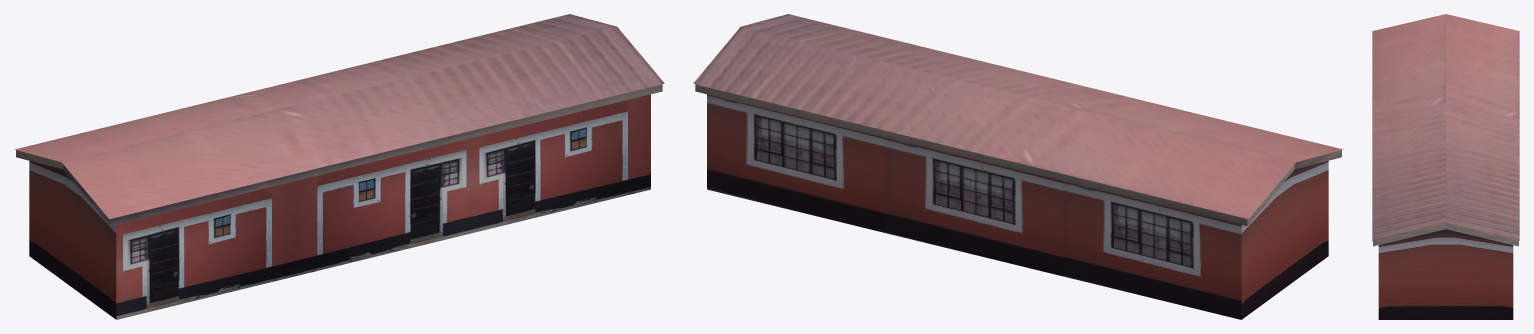
Rendered from PazuriHouse.dae.
The picture shows the model from 3 angles, left to right: view 1: azimuth 30°, elevation 25°; view 2: azimuth 150°, elevation 25°; view 3: azimuth 270°, elevation 25°; orthographic projection. The views are drawn at different scales.
Visible parts, largest first — view 1: body, roof, roofBoard; view 2: body, roof, roofBoard; view 3: roof, body, roofBoard.
Part boxes in pixels (x1,y1,x2,y2): body: (29, 94, 650, 319); roof: (14, 14, 664, 218); roofBoard: (16, 84, 662, 225); body: (707, 94, 1328, 319); roof: (693, 14, 1343, 218); roofBoard: (695, 84, 1341, 225); roof: (1372, 14, 1519, 240); body: (1378, 229, 1513, 319); roofBoard: (1373, 224, 1518, 246).
Bounding box in the file's own units: 12.53 × 3.72 × 2.77.
1 material, 1 textured.
